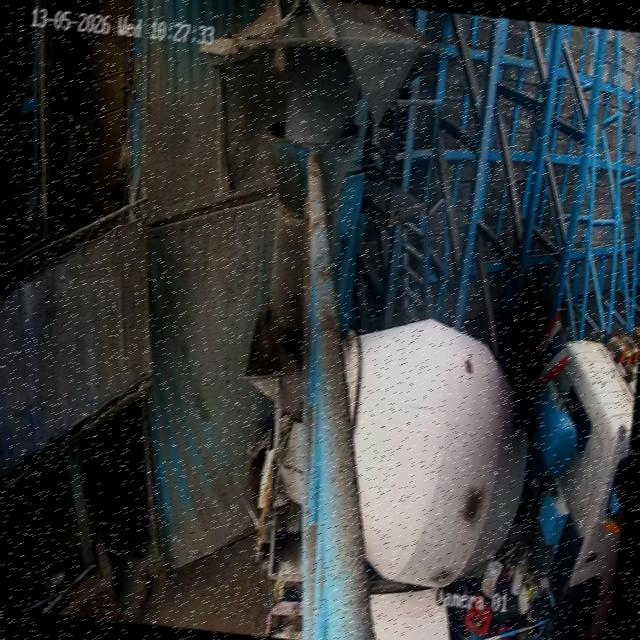cement_mixer_truck: (215, 297, 640, 640)
swing_chute: (266, 119, 359, 335)
